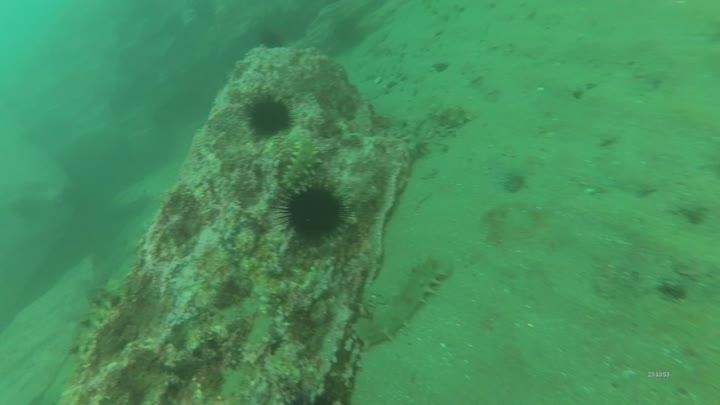echinus: (273, 179, 353, 247), (243, 92, 296, 140), (251, 25, 288, 51)
holothurian: (353, 251, 454, 349), (383, 115, 440, 163), (278, 134, 325, 191), (425, 101, 478, 131)
